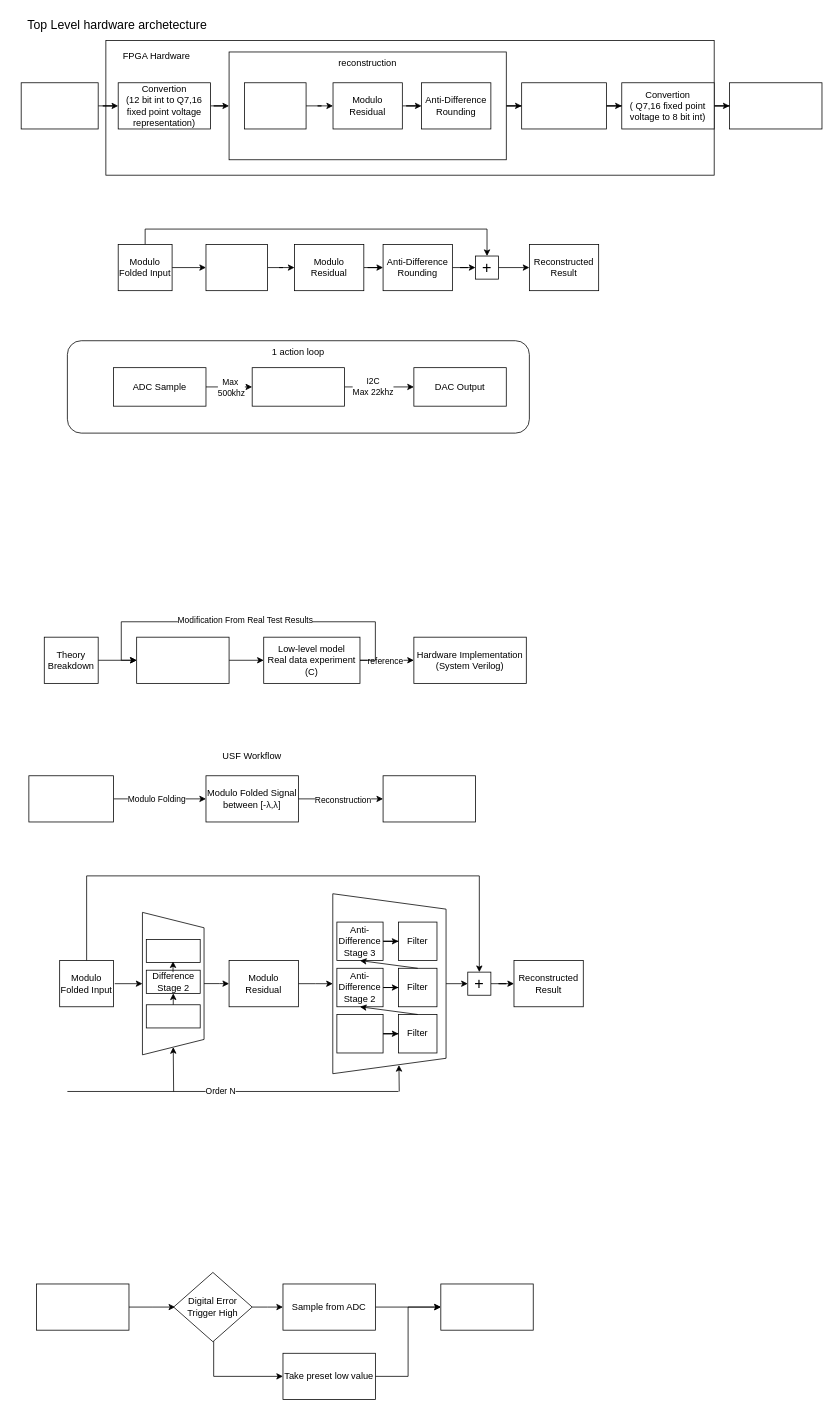
Image size: 835x1413. Some labels were removed from this diagram. Here are the shapes that lost their labels. From the top down, the centre of each, then its label:
the point at 59,105: 12 bit adc input (0-4095) (0-4.095v)
the point at 275,105: Higher Order Difference (N=1)
the point at 563,105: Moving Average Filter (Window Size=100)
the point at 775,105: 8 bit dac output (0-255) (0-5v)
the point at 236,267: Higher Order Difference
the point at 298,386: Reconstruct
the point at 182,659: High-level model test data simulation (Python)
the point at 71,798: High Dynamic Range Signal
the point at 428,798: Reconstructed Original Signal
the point at 173,951: Difference Stage 3
the point at 173,1016: Difference Stage 1
the point at 359,1033: Anti-Difference Stage 1
the point at 82,1306: CPU toggle ADC start registers high
the point at 486,1306: Stored in Register and Read by CPU
